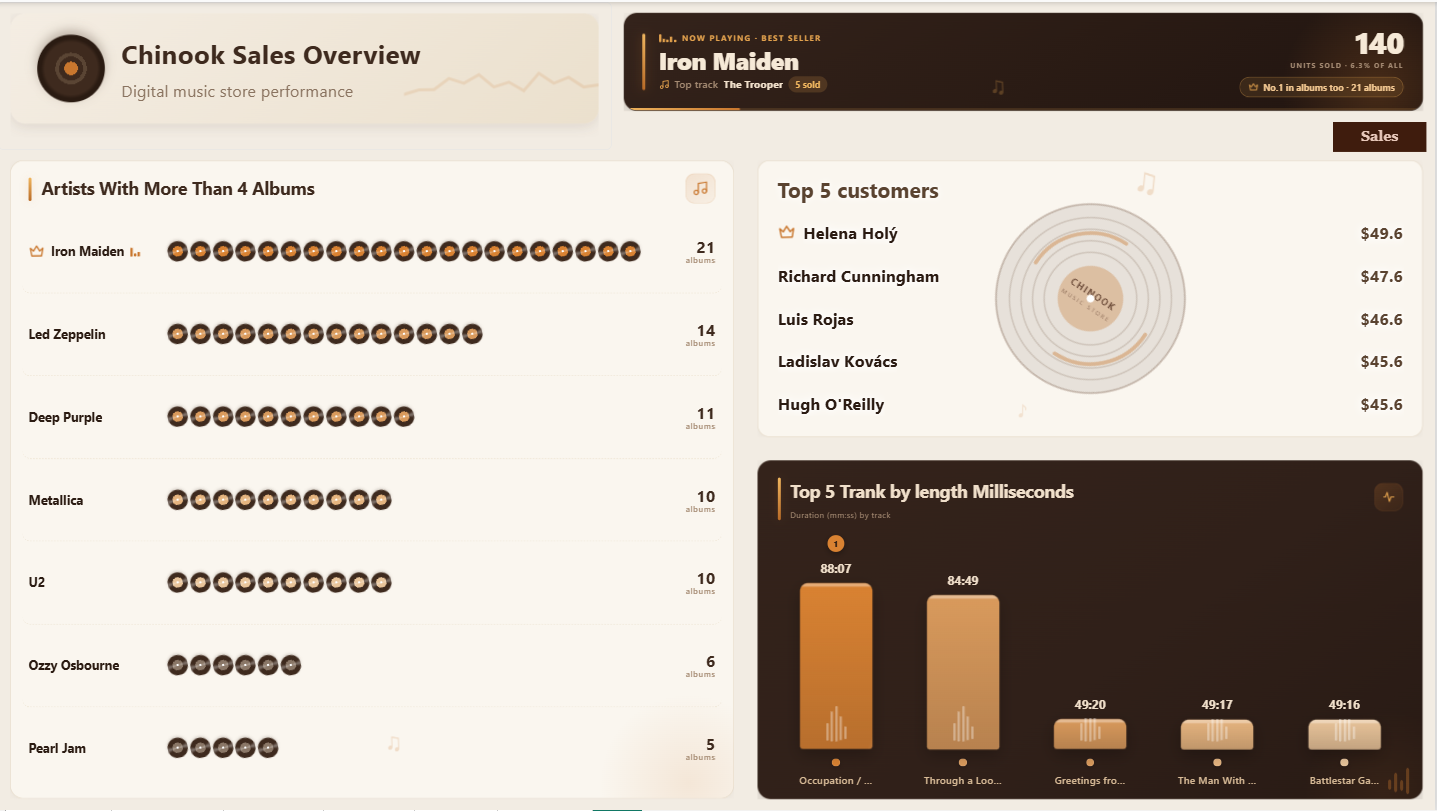

What the dashboard file says about the page in this screenshot:
{"tool":"powerbi","page":{"name":"tracks","canvas":[1920,1080],"ordinal":3},"visuals":[{"type":"htmlContent443BE3AD55E043BF878BED274D3A6855","fields":{"content":["Avg_CLV__2.Top5Tracks_Animated"]},"box":[998.9,597.2,921.1,483.2],"z":0},{"type":"htmlContent443BE3AD55E043BF878BED274D3A6855","fields":{"content":["Avg_CLV__2.AlbumsByArtistHTML"]},"box":[0,197.3,998.9,883.1],"z":1000},{"type":"htmlContent443BE3AD55E043BF878BED274D3A6855","fields":{"content":["_measure.HeaderHTMLx"]},"box":[0,0,819.8,197.3],"z":2000},{"type":"htmlContent443BE3AD55E043BF878BED274D3A6855","fields":{"content":["_measure.TopCustomersHTML"]},"box":[998.9,197.3,921.1,399.9],"z":3000},{"type":"actionButton","box":[1782.5,161.1,124.9,39.8],"z":4000},{"type":"htmlContent443BE3AD55E043BF878BED274D3A6855","fields":{"content":["_measure.NowPlayingHTML"]},"box":[819.8,0,1100.3,161.1],"z":4001}]}

Visuals, with their boxes in screenshot pixels (x1, y1, x2, y2), scaled from the page's 1920x1080 canvas onto the 1437x811 screenshot:
htmlContent443BE3AD55E043BF878BED274D3A6855 - Avg_CLV__2.Top5Tracks_Animated: [748,448,1436,810]
htmlContent443BE3AD55E043BF878BED274D3A6855 - Avg_CLV__2.AlbumsByArtistHTML: [0,148,748,810]
htmlContent443BE3AD55E043BF878BED274D3A6855 - _measure.HeaderHTMLx: [0,0,614,148]
htmlContent443BE3AD55E043BF878BED274D3A6855 - _measure.TopCustomersHTML: [748,148,1436,448]
actionButton: [1334,121,1428,151]
htmlContent443BE3AD55E043BF878BED274D3A6855 - _measure.NowPlayingHTML: [614,0,1436,121]
